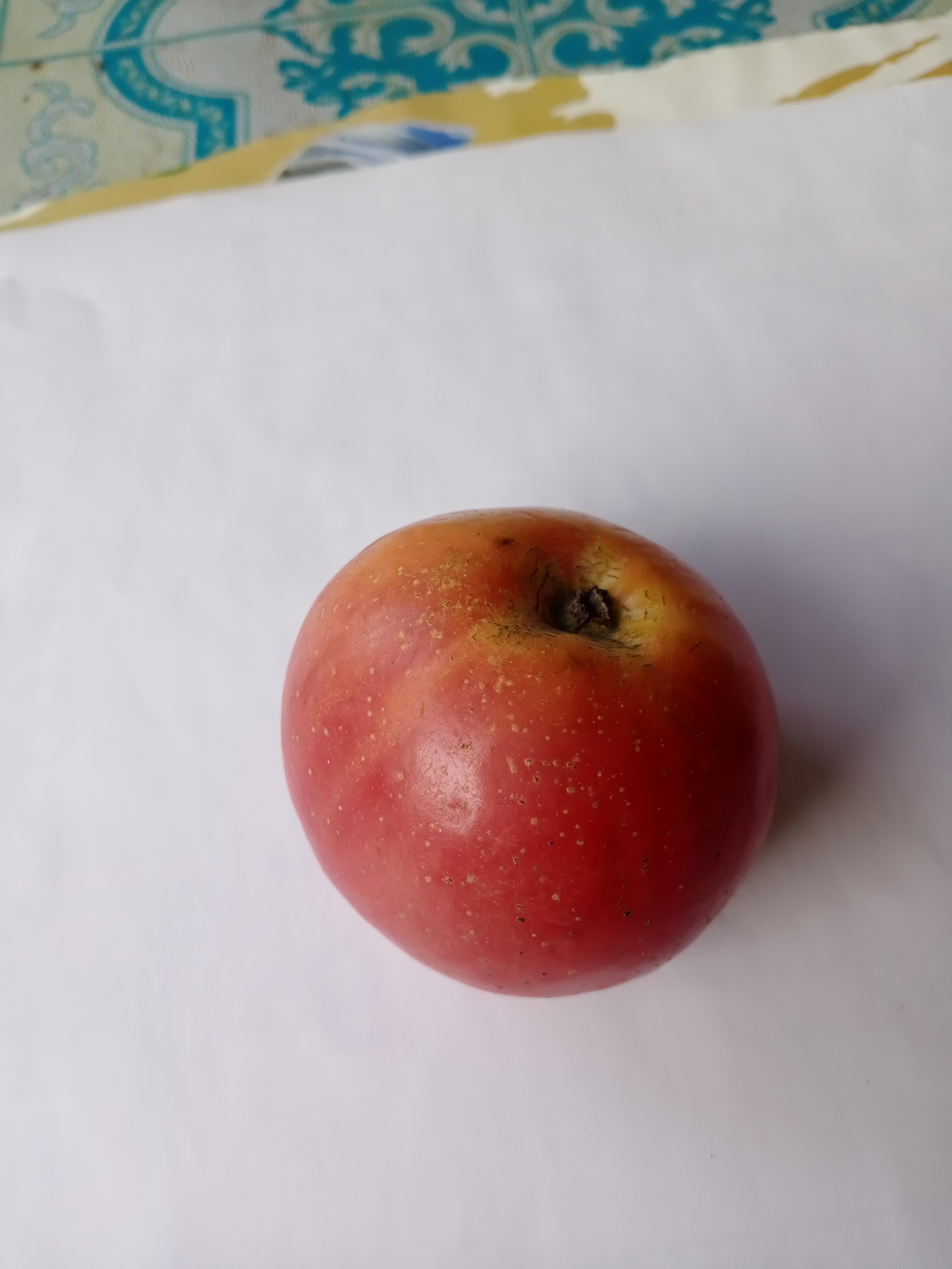Apple Ripe: (265, 474, 796, 1016)
